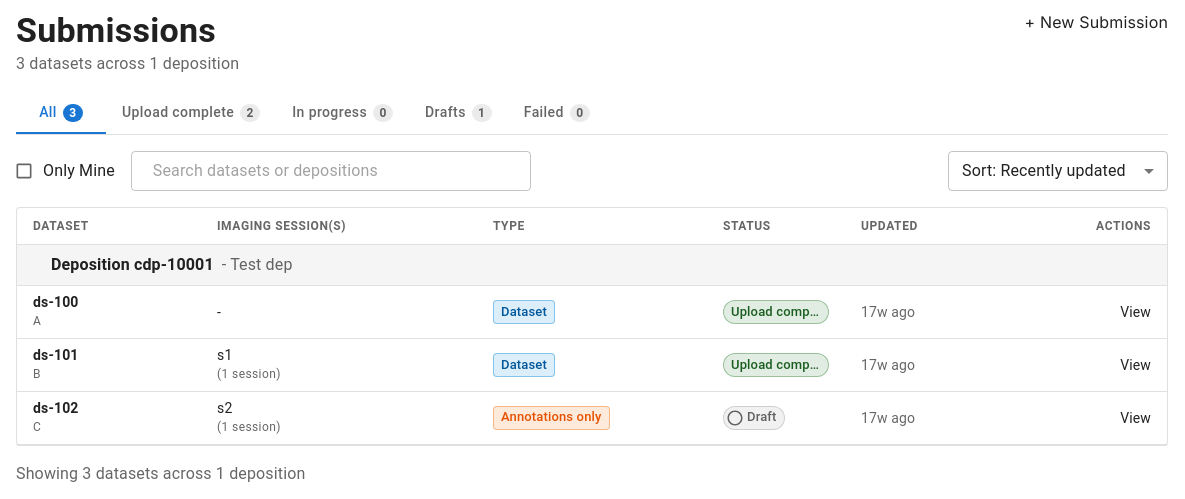
it: SubmissionsPage › filters rows by search (dataset id)
The image size is (1185, 499).
Type "102" into the field with placeholder "Search datasets or depositions" at (342, 171), box [153,151,531,191]
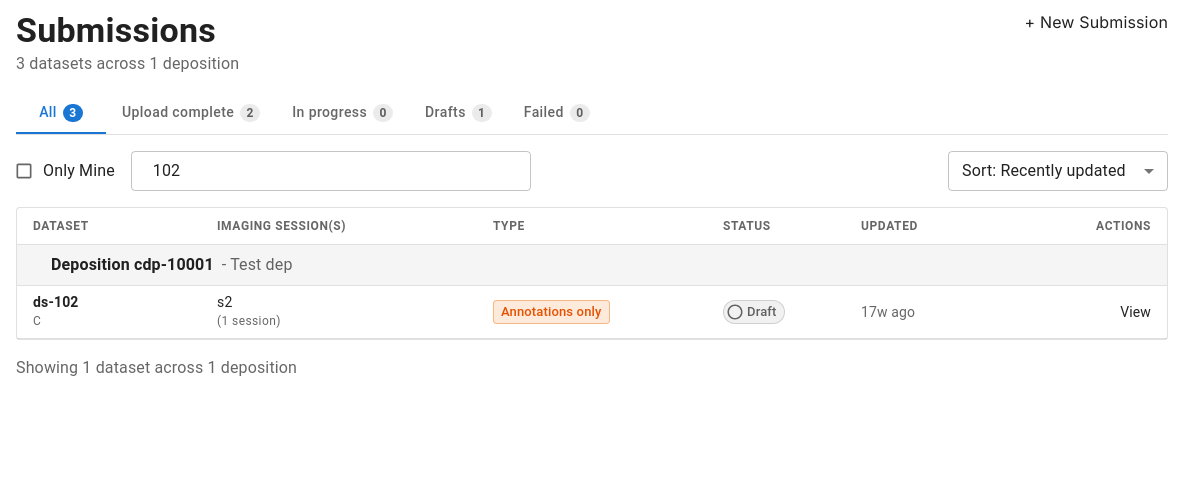
Expected: the text "ds-102" is shown, [33,294,78,310]
Now the text "ds-100" is gone
